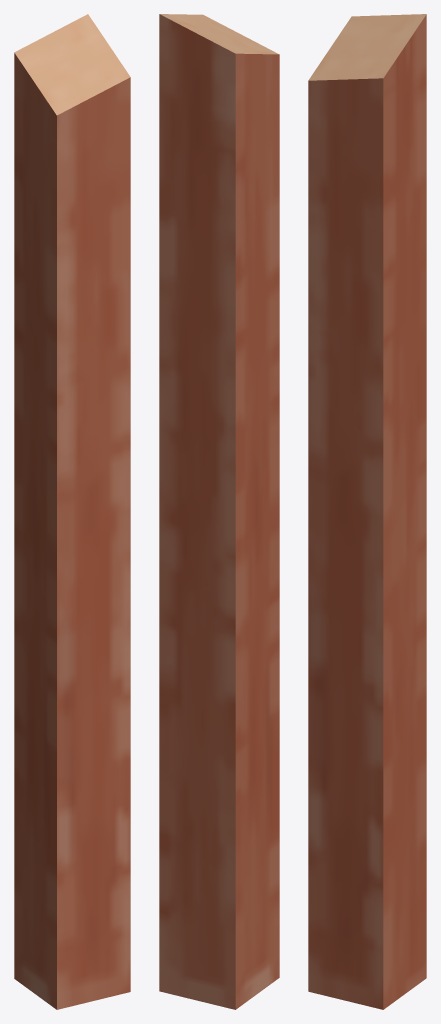
The model's file is pergola_s07.fbx.
3 renders of one model, left to right at view 1: azimuth 30°, elevation 25°; view 2: azimuth 150°, elevation 25°; view 3: azimuth 330°, elevation 25°, orthographic. The views are drawn at different scales.
Parts seen in each view (by area): view 1: pergola_s07; view 2: pergola_s07; view 3: pergola_s07.
Part boxes in pixels (x1,y1,x2,y2): pergola_s07: [14, 14, 130, 1009]; pergola_s07: [159, 14, 279, 1009]; pergola_s07: [308, 14, 426, 1009].
Size of the model in its own units: 0.4 by 4.9 by 0.4.
